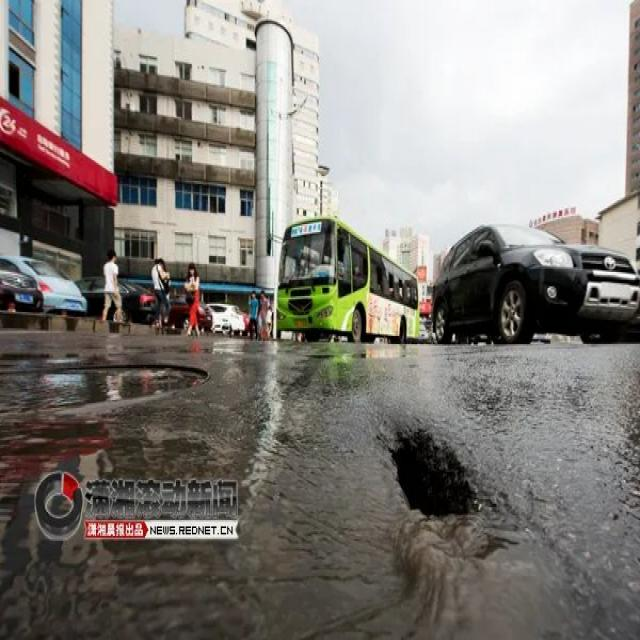Pothole: (11, 344, 211, 421), (378, 430, 502, 542)
